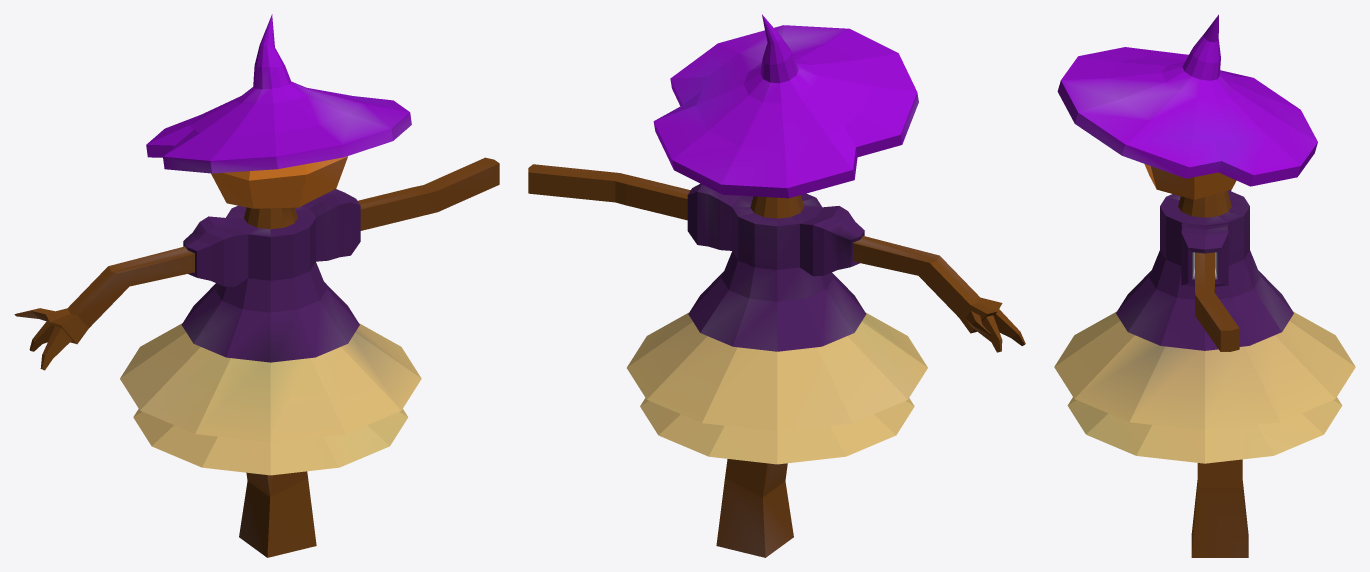
The model's file is Espantalho.fbx.
The picture shows the model from 3 angles, left to right: view 1: azimuth 30°, elevation 25°; view 2: azimuth 150°, elevation 25°; view 3: azimuth 270°, elevation 25°; orthographic projection.
Parts seen in each view (by area): view 1: Espantalho; view 2: Espantalho; view 3: Espantalho.
Boxes of the visible parts, x1=… form: Espantalho: x1=14, y1=14, x2=499, y2=557; Espantalho: x1=528, y1=14, x2=1025, y2=557; Espantalho: x1=1054, y1=14, x2=1355, y2=557.
Size of the model in its own units: 508 by 540 by 279.
